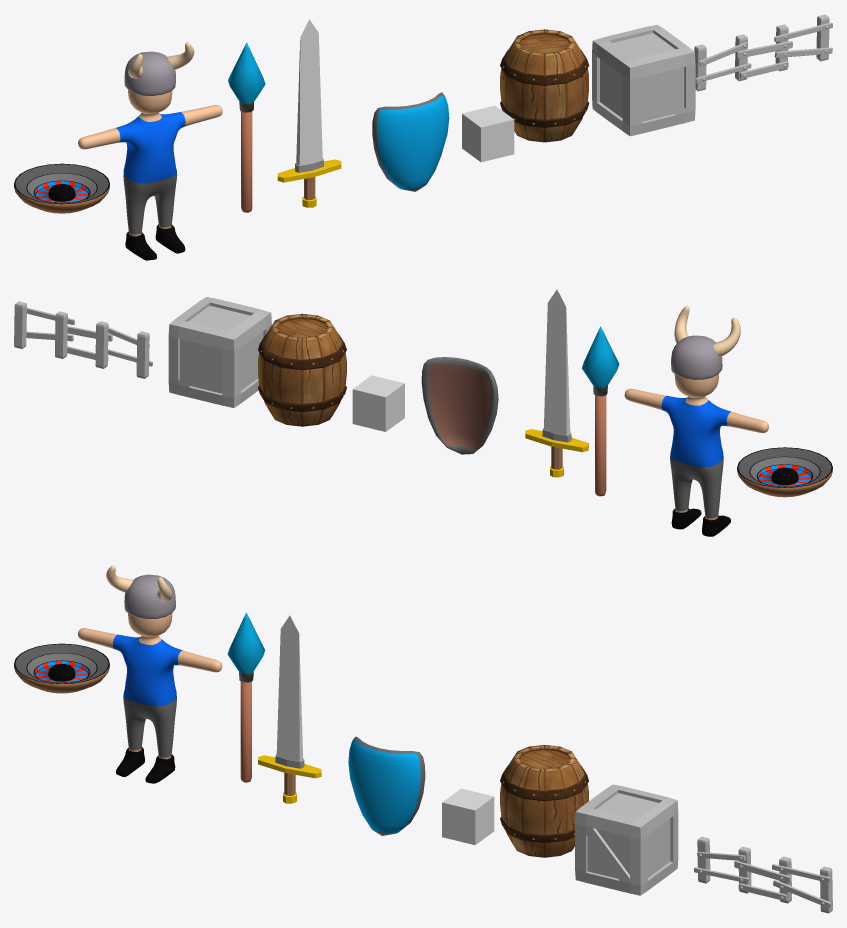
Rendered from jdkdk.fbx.
3 views of the same model, one above another, from view 1: azimuth 30°, elevation 25°; view 2: azimuth 150°, elevation 25°; view 3: azimuth 330°, elevation 25° (orthographic).
Visible parts, largest first — view 1: BASE BOX, Object_0, Куб, Куб.006, Куб.005, Цилиндр, Object_0.001, Куб.002, Куб.007, Куб.001, Куб.004, Куб.003; view 2: BASE BOX, Object_0, Куб, Куб.006, Куб.005, Цилиндр, Object_0.001, Куб.001, Куб.002, Куб.007; view 3: BASE BOX, Object_0, Куб, Куб.006, Куб.005, Цилиндр, Object_0.001, Куб.002, Куб.007, Куб.001.
Boxes of the visible parts, left/top/right/bottom form: BASE BOX: left=592, top=25, right=695, bottom=136; Object_0: left=500, top=29, right=589, bottom=142; Куб: left=78, top=90, right=222, bottom=236; Куб.006: left=372, top=92, right=449, bottom=191; Куб.005: left=277, top=19, right=341, bottom=207; Цилиндр: left=14, top=163, right=109, bottom=213; Object_0.001: left=694, top=14, right=832, bottom=91; Куб.002: left=228, top=42, right=265, bottom=212; Куб.007: left=462, top=105, right=514, bottom=162; Куб.001: left=124, top=42, right=194, bottom=95; Куб.004: left=125, top=231, right=156, bottom=260; Куб.003: left=155, top=224, right=185, bottom=253; BASE BOX: left=168, top=297, right=271, bottom=407; Object_0: left=258, top=313, right=346, bottom=426; Куб: left=624, top=374, right=768, bottom=520; Куб.006: left=421, top=357, right=498, bottom=454; Куб.005: left=525, top=289, right=588, bottom=477; Цилиндр: left=737, top=447, right=832, bottom=497; Object_0.001: left=14, top=301, right=153, bottom=378; Куб.001: left=671, top=306, right=740, bottom=379; Куб.002: left=582, top=326, right=619, bottom=496; Куб.007: left=352, top=375, right=404, bottom=431; BASE BOX: left=575, top=784, right=678, bottom=895; Object_0: left=500, top=745, right=588, bottom=857; Куб: left=78, top=613, right=222, bottom=759; Куб.006: left=348, top=736, right=425, bottom=835; Куб.005: left=258, top=615, right=321, bottom=803; Цилиндр: left=14, top=643, right=109, bottom=693; Object_0.001: left=693, top=836, right=832, bottom=913; Куб.002: left=227, top=612, right=264, bottom=782; Куб.007: left=442, top=788, right=494, bottom=844; Куб.001: left=106, top=565, right=175, bottom=618.
Bounding box in the file's own units: 4885 × 1189 × 538.
